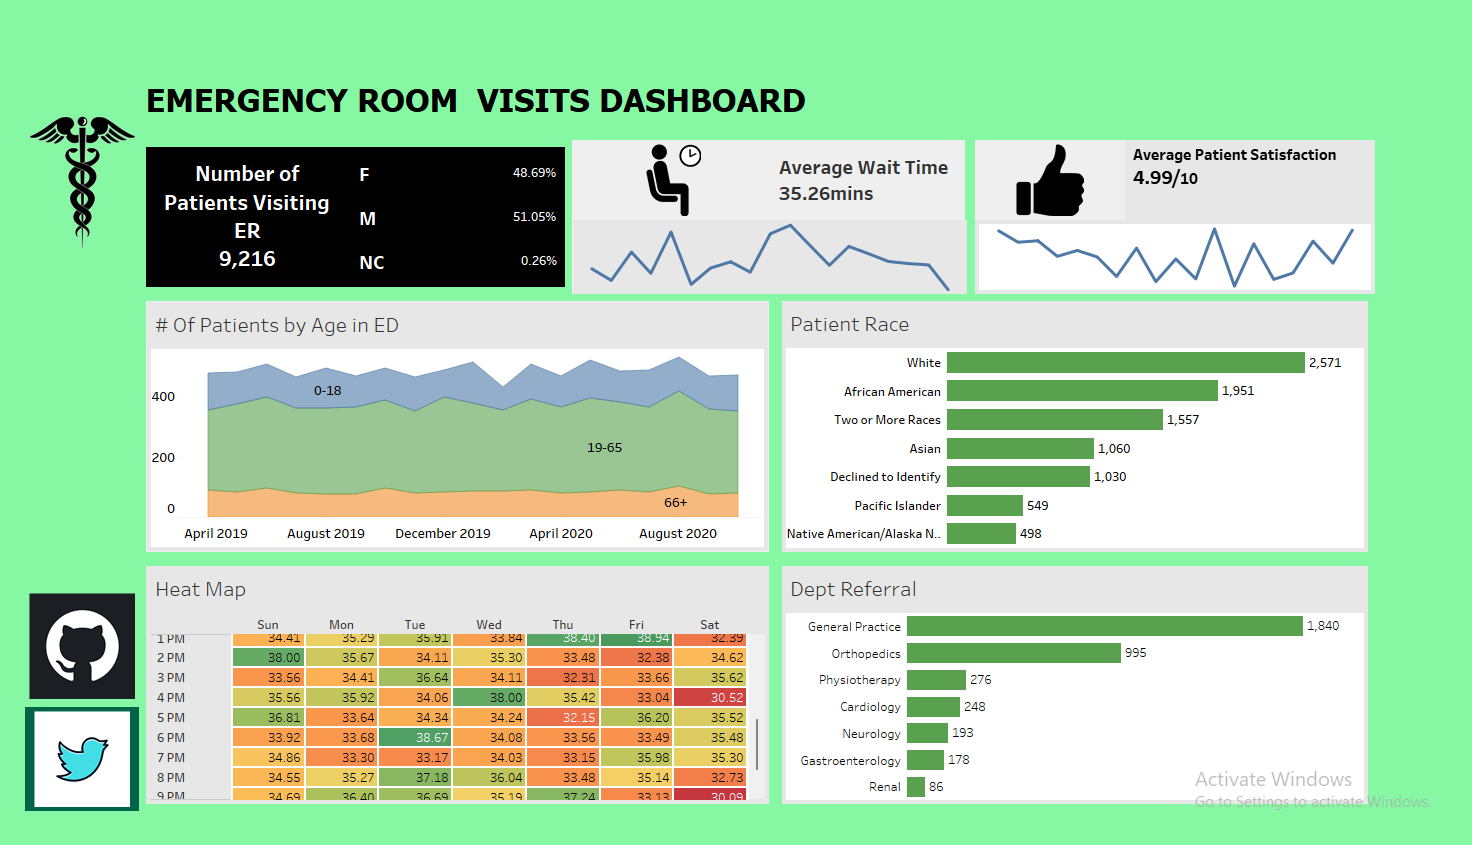

The dashboard page shown, as its layout file describes it:
{"tool":"tableau","page":{"name":"Dashboard 1","canvas":[1366,768],"ordinal":0},"visuals":[{"type":"image","param":"C:/Users/Somto/Downloads/caduceus-30591_1280.png","box":[8,8,114,246]},{"type":"text","box":[122,8,1236,81]},{"type":"image","param":"C:/Users/Somto/Downloads/room-44084_1920 (1).png","box":[555,89,203.5,80.5]},{"type":"worksheet","title":"Average wait time","mark":"Automatic","box":[758.5,89,189.8,80.5]},{"type":"image","param":"C:/Users/Somto/Downloads/hand-159474_1920.png","box":[958.3,89,149.7,80.5]},{"type":"worksheet","title":"Average Satisfaction","mark":"Automatic","box":[1108,89,250,55]},{"type":"worksheet","title":"# of Patients ED","mark":"Automatic","box":[129,96,203,140]},{"type":"worksheet","title":"Gender","mark":"Automatic","rows":["patient_gender"],"box":[332,96,216,140]},{"type":"worksheet","title":"Wait time Average","mark":"Automatic","rows":["patient_waittime"],"cols":["date"],"box":[555,169.5,403.3,73.5]},{"type":"worksheet","title":"Patient Satisfaction","mark":"Automatic","rows":["patient_sat_score"],"cols":["date"],"box":[958.3,169.5,399.7,73.5]},{"type":"worksheet","title":"patient race","mark":"Automatic","rows":["patient_race"],"cols":["patient_id"],"box":[765.5,250,585.5,251]},{"type":"worksheet","title":"# OF patients by Age","mark":"Area","rows":["patient_id"],"cols":["date"],"box":[130,251,620.5,249]},{"type":"worksheet","title":"Heat Map","mark":"Square","rows":["date"],"cols":["date"],"box":[129,515,622.5,238]},{"type":"worksheet","title":"dept ref","mark":"Automatic","rows":["department_referral"],"cols":["patient_id"],"box":[765.5,515,585.5,238]},{"type":"image","param":"C:/Users/Somto/Downloads/github-6980894_1280.png","box":[8,535,114,121]},{"type":"image","param":"C:/Users/Somto/Downloads/twitter-3000965_1280.png","box":[8,656,114,104]}]}

Visuals, with their boxes in screenshot pixels (x1, y1, x2, y2), scaled from the page's 1366x768 canvas onto the 1472x845 screenshot:
image: 9,9,131,279
text: 131,9,1463,98
image: 598,98,817,186
"Average wait time" worksheet: 817,98,1022,186
image: 1033,98,1194,186
"Average Satisfaction" worksheet: 1194,98,1463,158
"# of Patients ED" worksheet: 139,106,358,260
"Gender" worksheet: 358,106,591,260
"Wait time Average" worksheet: 598,186,1033,267
"Patient Satisfaction" worksheet: 1033,186,1463,267
"patient race" worksheet: 825,275,1456,551
"# OF patients by Age" worksheet (Area marks): 140,276,809,550
"Heat Map" worksheet (Square marks): 139,567,810,828
"dept ref" worksheet: 825,567,1456,828
image: 9,589,131,722
image: 9,722,131,836
